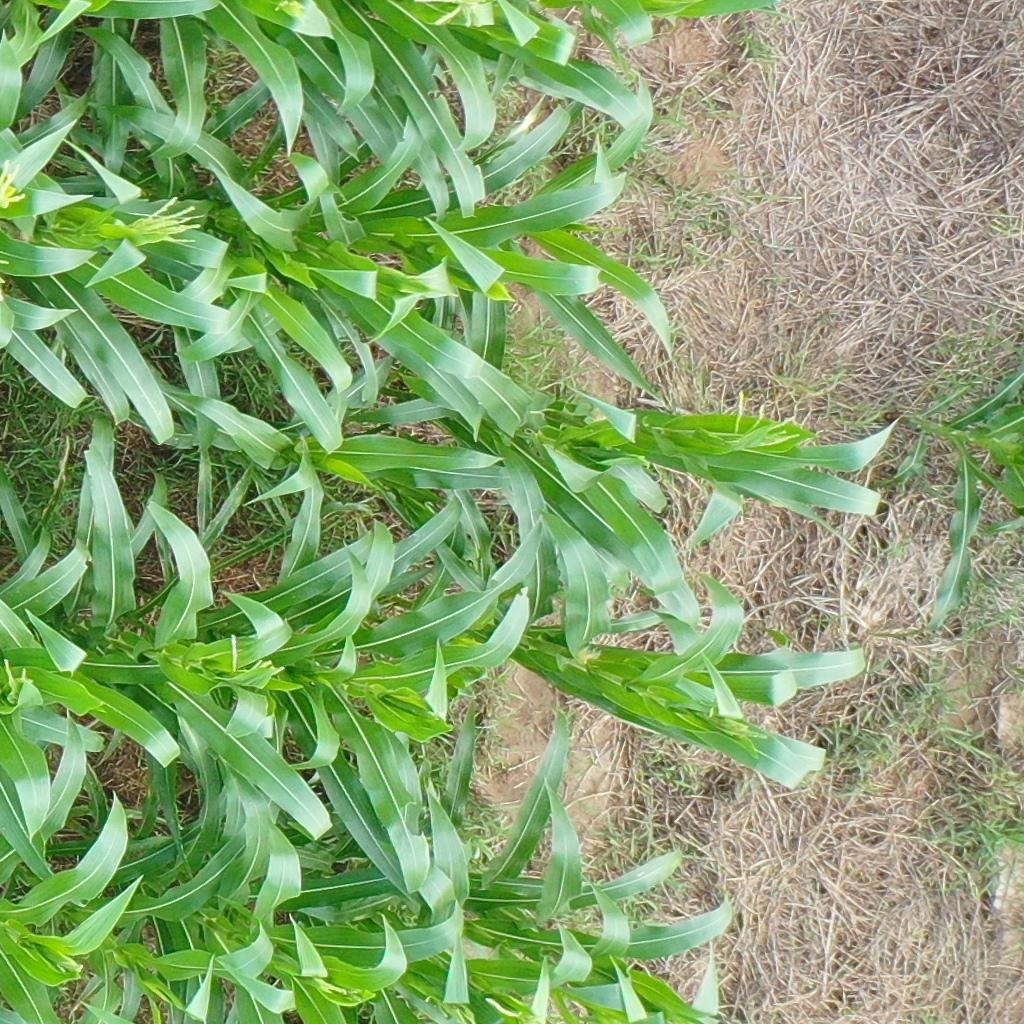Tassel: (730, 390, 801, 456), (124, 195, 200, 250), (223, 633, 284, 683), (705, 705, 767, 747), (415, 1, 483, 25), (1, 652, 31, 705), (1, 156, 28, 208), (310, 973, 347, 997)
